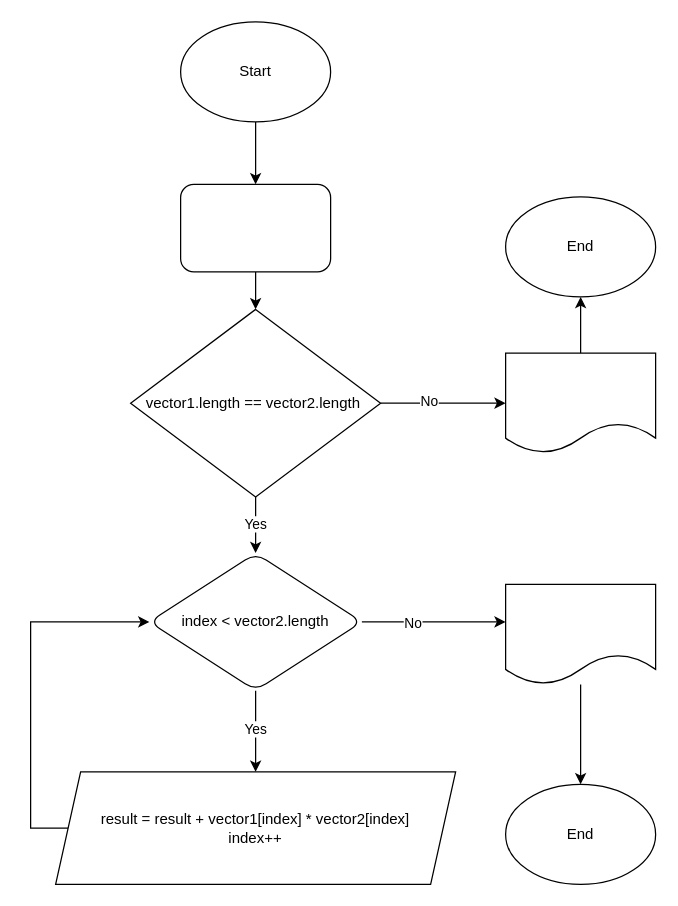
The diagram is 678 pixels wide and 906 high, and some of its shapes have lost their labels. The shapes that lost their labels are listed below. From the top down, each one's centre as x and y in pixels, then its label:
At (x=255, y=227): "vector1 = [a,b] vector2 = [c,d] index = 0 result = 0".
At (x=580, y=402): "Error vector1 != vector2".
At (x=580, y=633): "print(result)".
